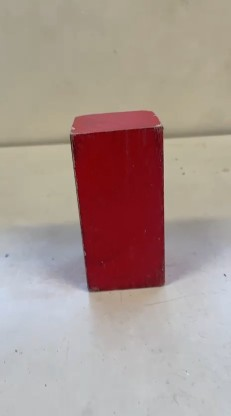red: (67, 104, 173, 297)
